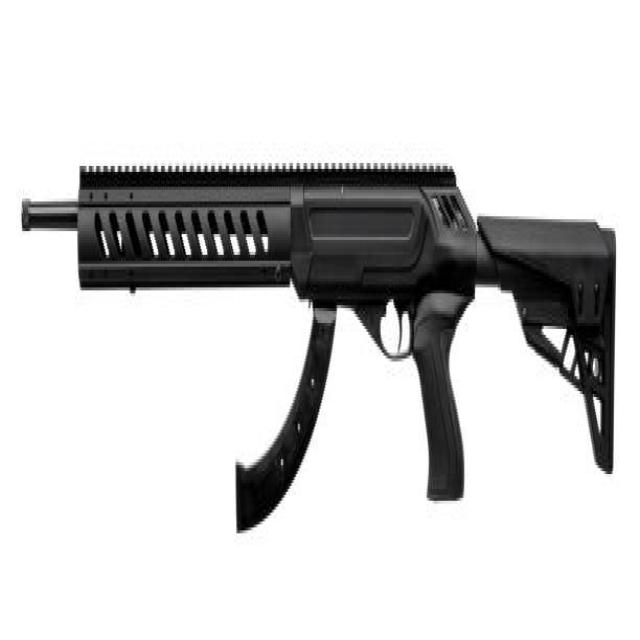rifle: (21, 149, 622, 576)
